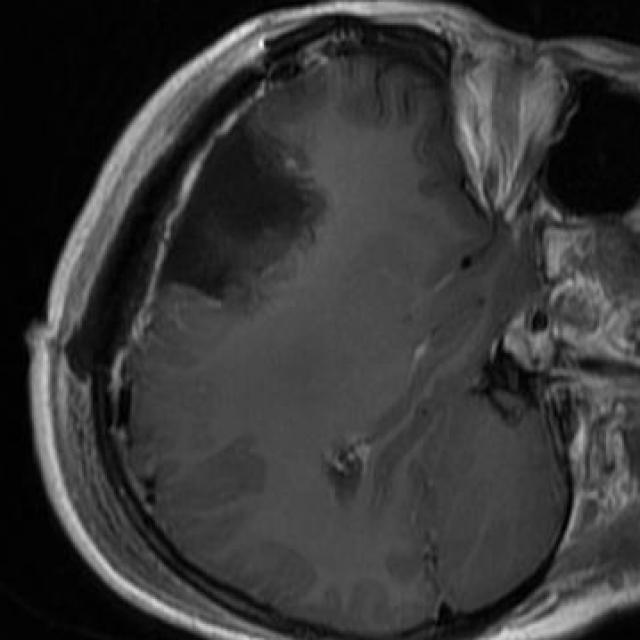glioma: (159, 118, 328, 312)
